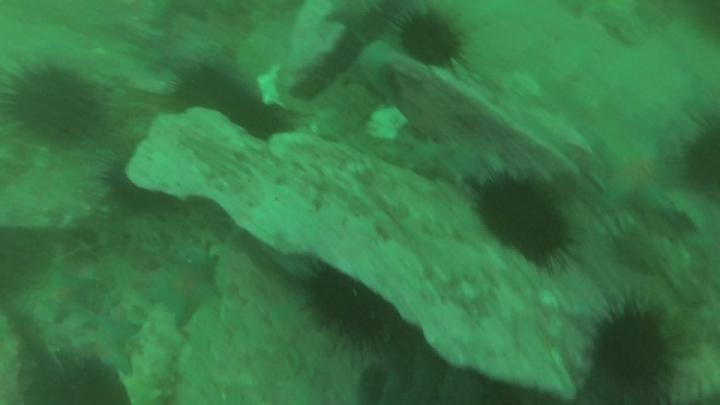echinus: (481, 174, 567, 266), (177, 64, 274, 138), (15, 71, 98, 147), (594, 314, 672, 385), (311, 273, 392, 341), (402, 11, 460, 66)
scallop: (369, 107, 407, 142), (503, 69, 541, 102)
starfish: (602, 135, 676, 217), (145, 259, 221, 326), (77, 313, 134, 373), (42, 271, 95, 324)
